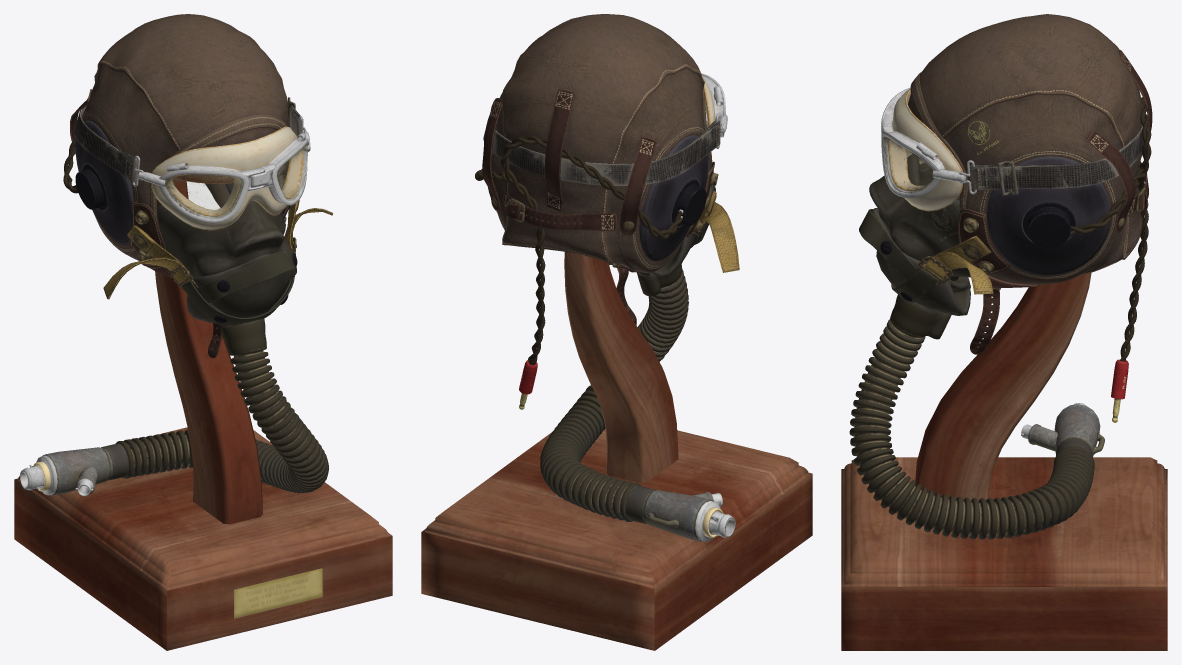
Rendered from helmet.gltf.
3 renders of one model, left to right at view 1: azimuth 30°, elevation 25°; view 2: azimuth 150°, elevation 25°; view 3: azimuth 270°, elevation 25°, orthographic. The views are drawn at different scales.
Visible parts, largest first — view 1: RubberWood_low, LeatherParts_low, MetalParts_low, GlassPlastic_low, Hose_low, Lenses_low; view 2: RubberWood_low, LeatherParts_low, Hose_low, MetalParts_low, GlassPlastic_low; view 3: RubberWood_low, LeatherParts_low, Hose_low, GlassPlastic_low, MetalParts_low, Lenses_low.
Part boxes in pixels (left/top/right/bottom): RubberWood_low: left=14, top=100, right=392, bottom=650; LeatherParts_low: left=70, top=14, right=290, bottom=358; MetalParts_low: left=20, top=97, right=322, bottom=618; GlassPlastic_low: left=75, top=120, right=304, bottom=244; Hose_low: left=115, top=346, right=328, bottom=493; Lenses_low: left=165, top=144, right=307, bottom=218; RubberWood_low: left=421, top=114, right=812, bottom=650; LeatherParts_low: left=482, top=14, right=714, bottom=325; Hose_low: left=540, top=270, right=688, bottom=521; MetalParts_low: left=492, top=73, right=735, bottom=541; GlassPlastic_low: left=487, top=76, right=715, bottom=261; RubberWood_low: left=841, top=97, right=1167, bottom=650; LeatherParts_low: left=908, top=14, right=1152, bottom=354; Hose_low: left=849, top=317, right=1094, bottom=539; GlassPlastic_low: left=887, top=88, right=1110, bottom=275; MetalParts_low: left=880, top=87, right=1146, bottom=457; Lenses_low: left=883, top=136, right=933, bottom=193.
Bounding box in the file's own units: 0.3666 × 0.716 × 0.3716.
Materials: 6 (6 with a texture image).
